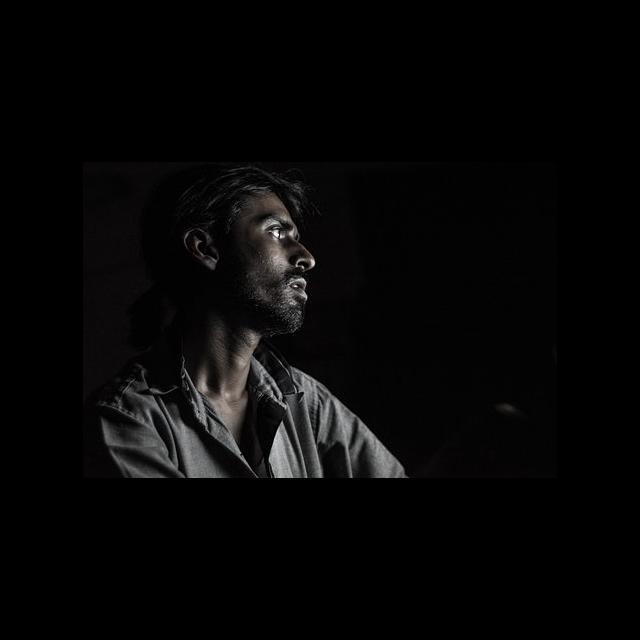male: (165, 179, 357, 367)
